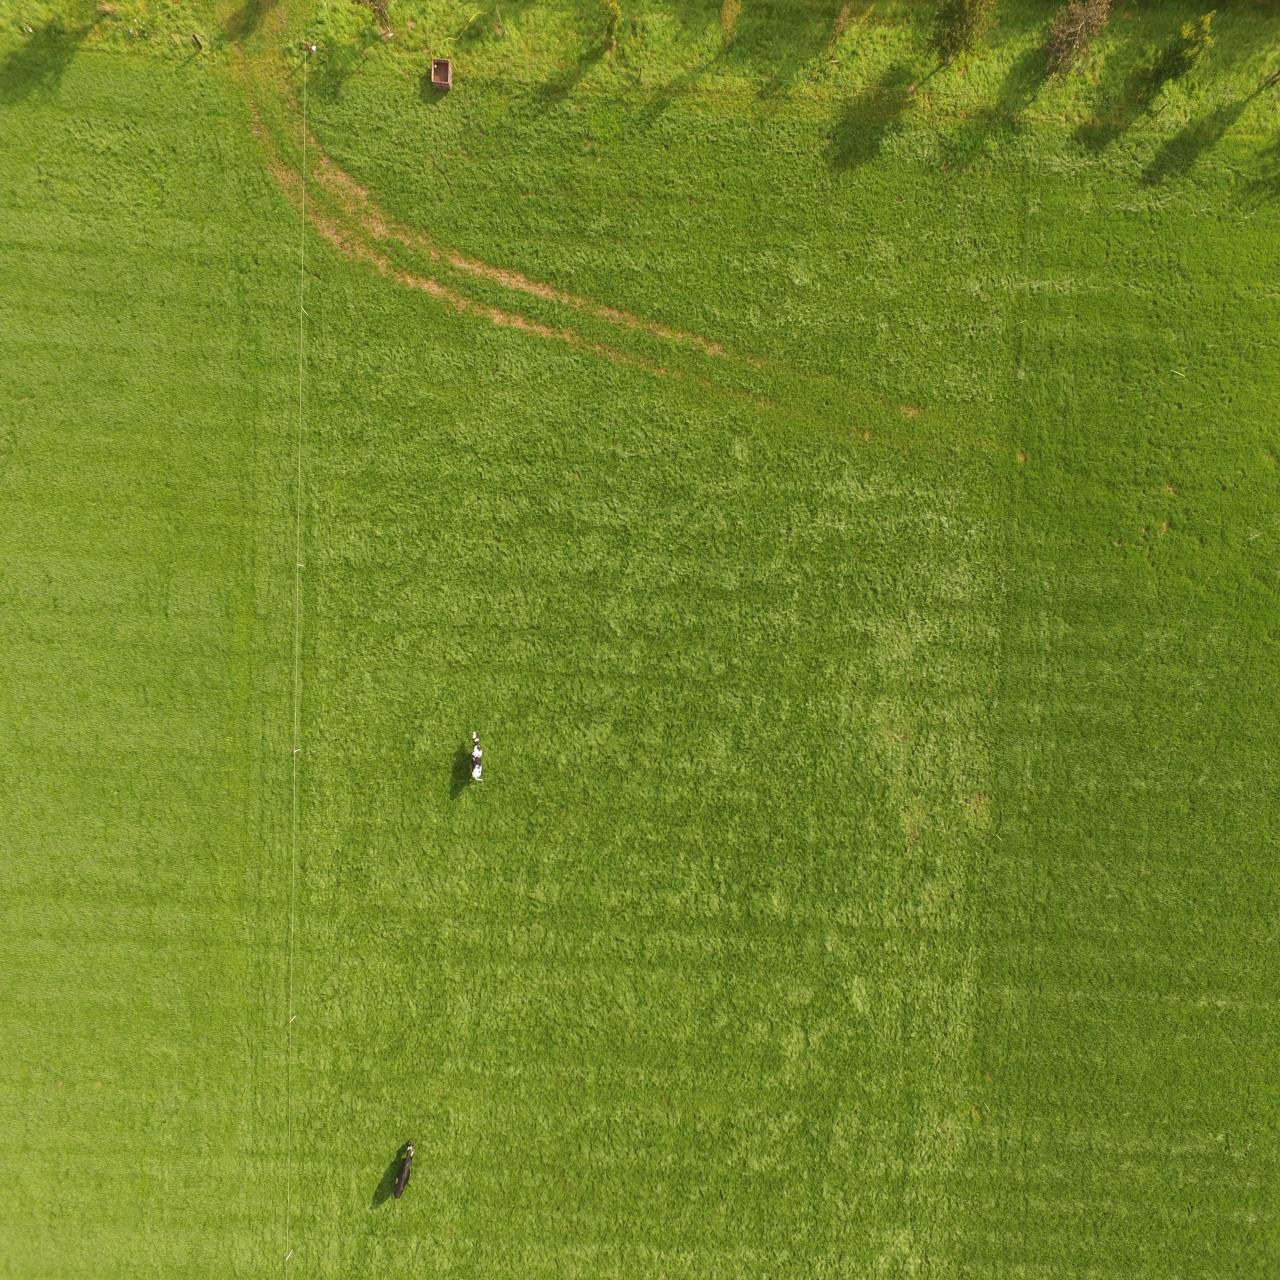cow: (392, 1137, 415, 1200), (469, 728, 485, 783)
